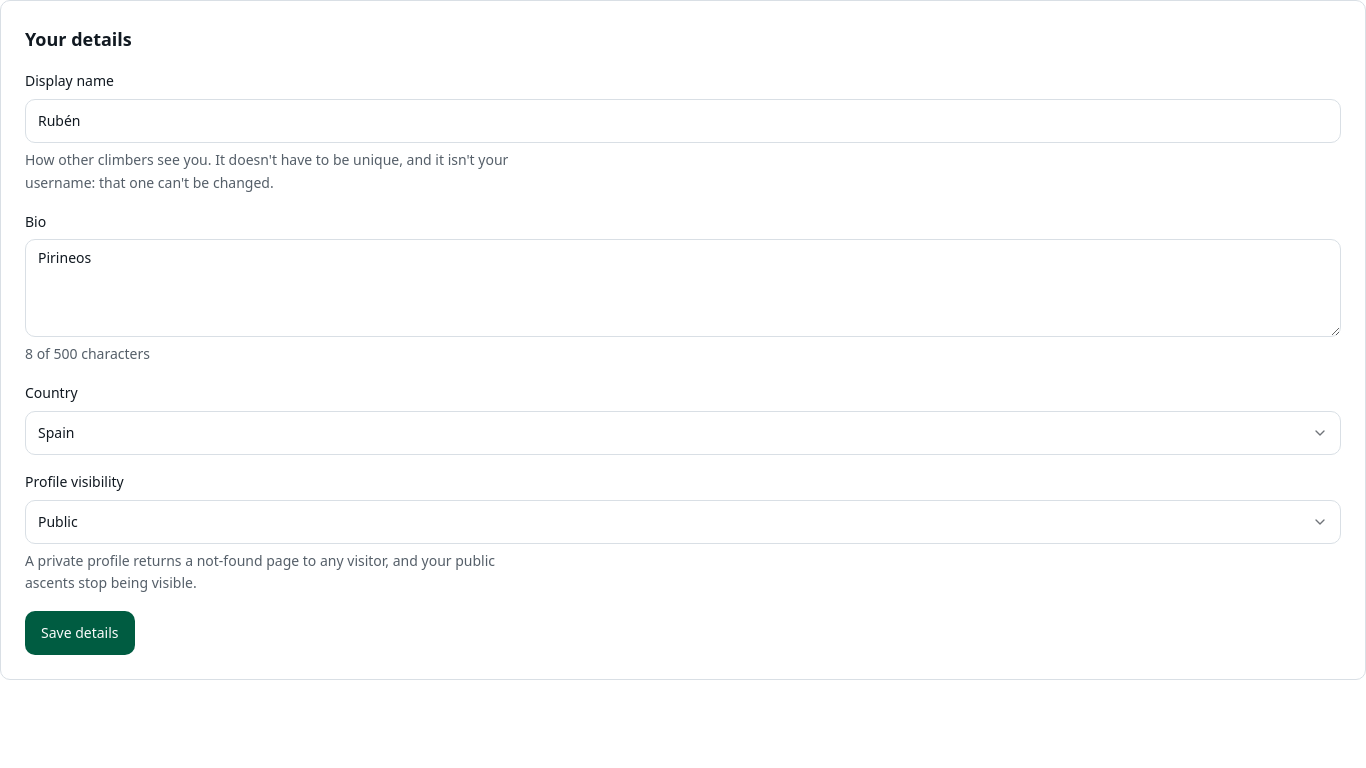
Test case: ProfileDataForm › profileDataForm_blankDisplayName_isRejectedBeforeCallingTheApi
Clear the field labelled "Display name" at [683, 121], box [25, 99, 1341, 143]
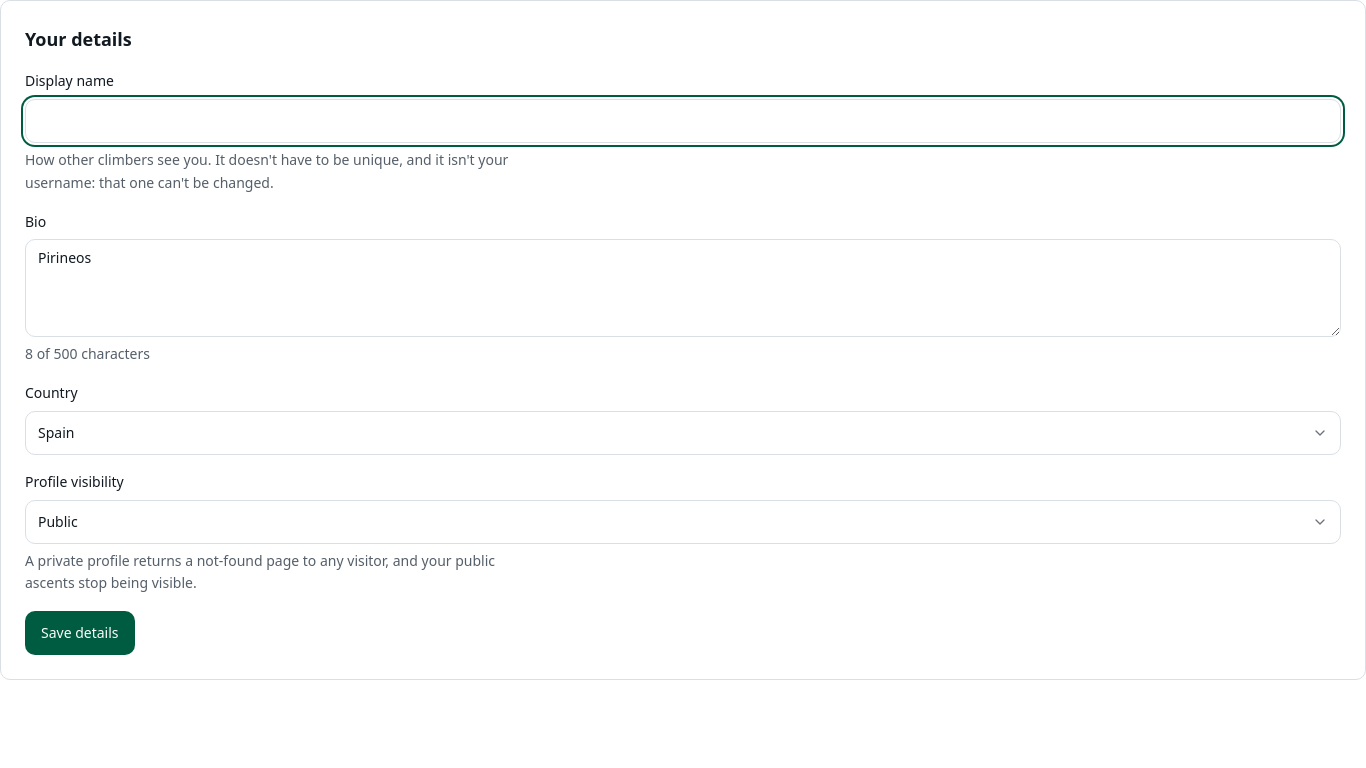
Click the button "Save details" at [80, 633], box [25, 611, 134, 655]
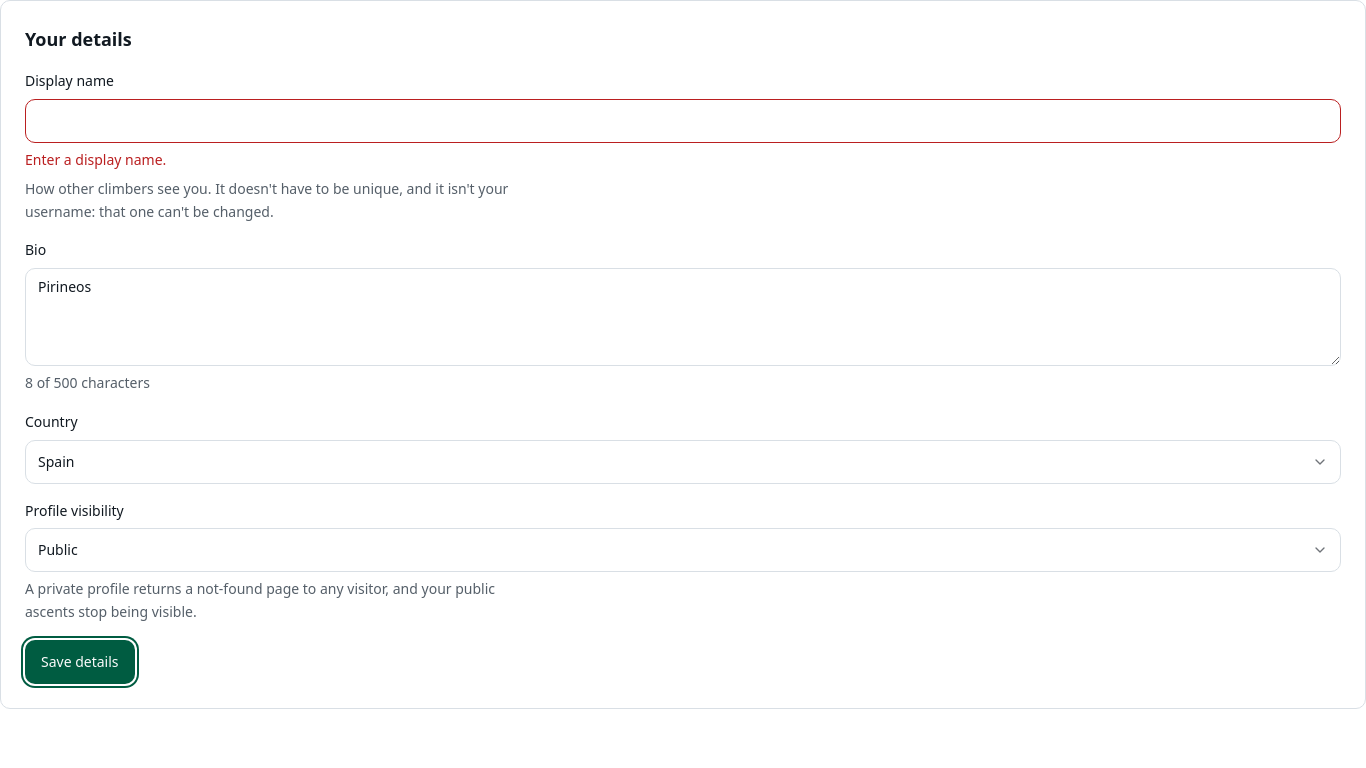
Result: the text "Enter a display name." is shown at [25, 150, 166, 169]
